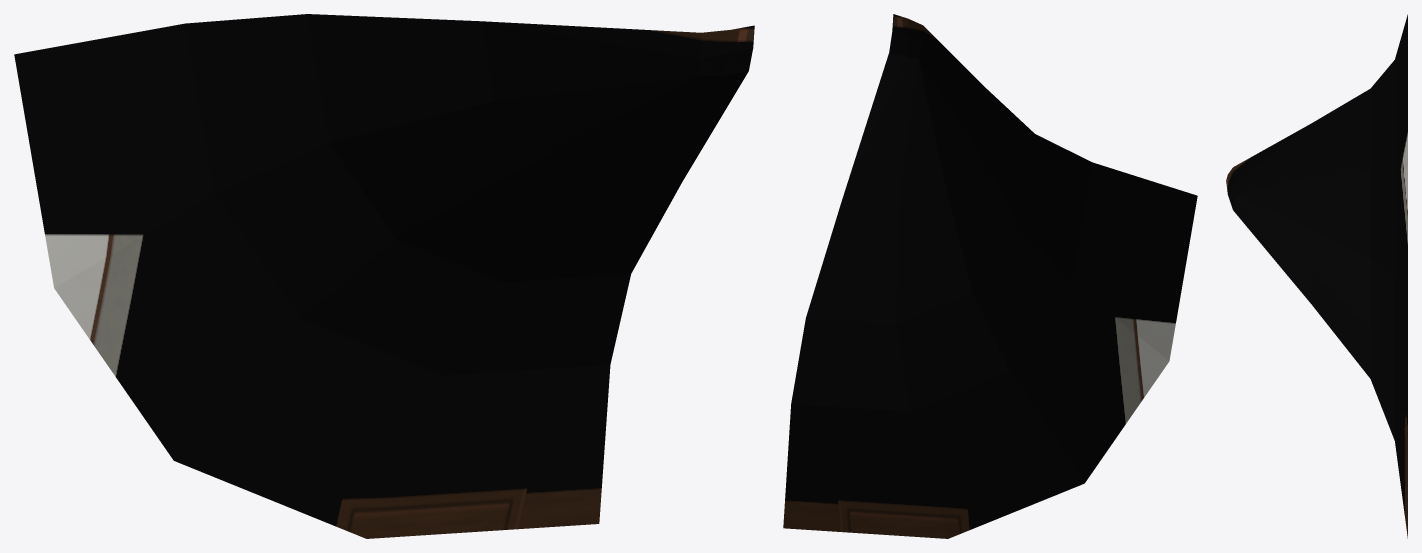
3 views of the same model, side by side, from view 1: azimuth 30°, elevation 25°; view 2: azimuth 150°, elevation 25°; view 3: azimuth 270°, elevation 25° (orthographic). The views are drawn at different scales.
Bounding box in the file's own units: 1 × 1 × 0.4601.
